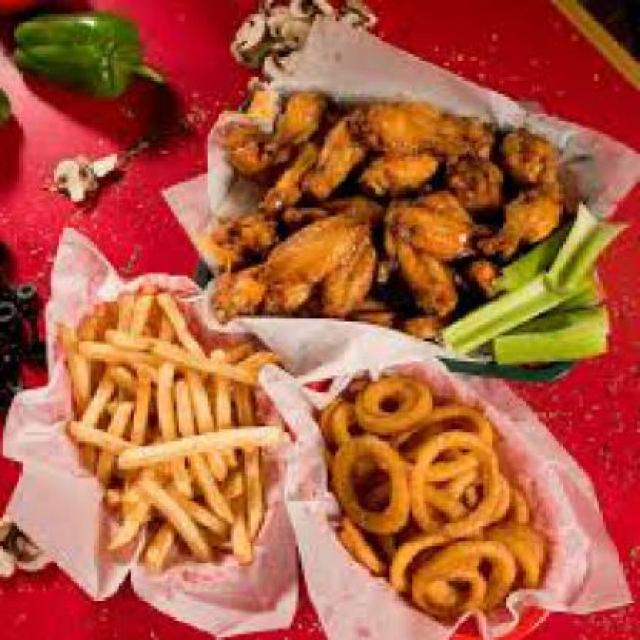chicken wings: (202, 79, 580, 333)
french fries: (77, 288, 275, 586)
onion rings: (312, 363, 552, 614)
